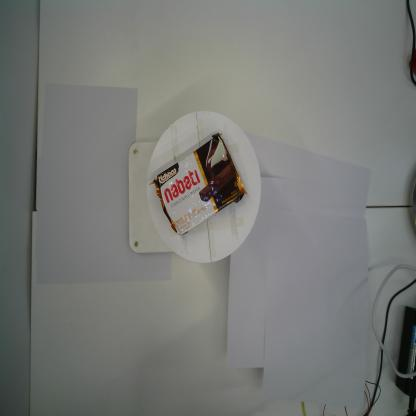Dessert: (146, 131, 250, 242)
